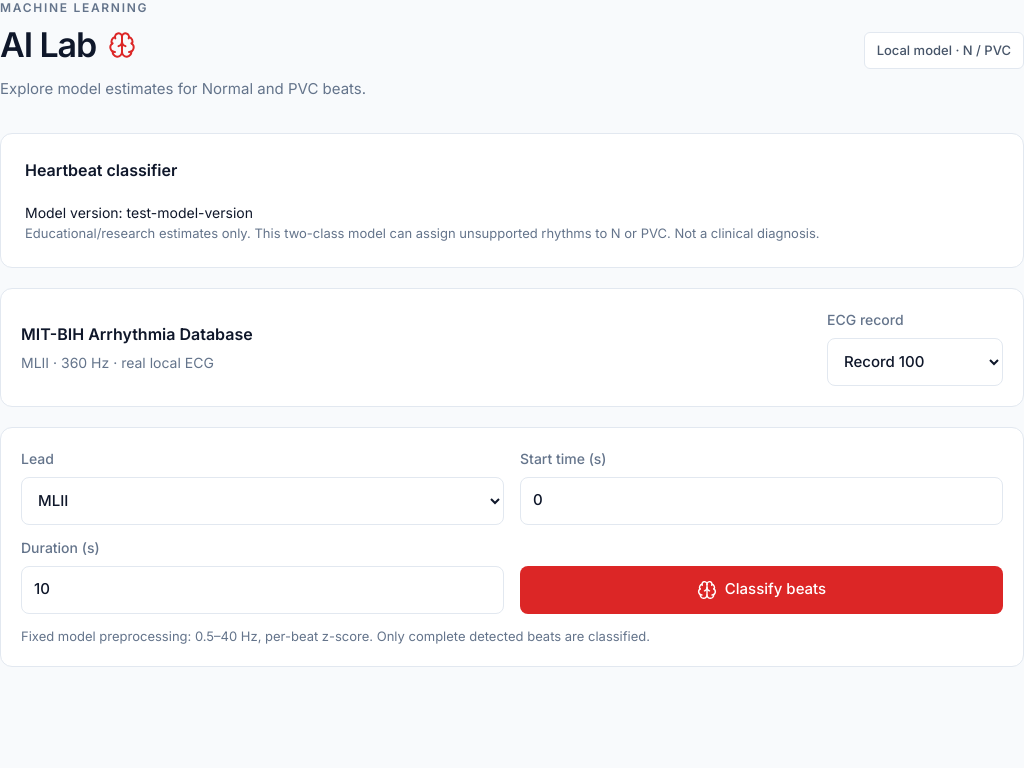
Test: prediction errors allow retry and never invent counts
Expected: the text "Model version: test-model-version" is shown, [25,204,253,220]
Click the button "Classify beats".
click(762, 590)  # box [520,566,1003,614]
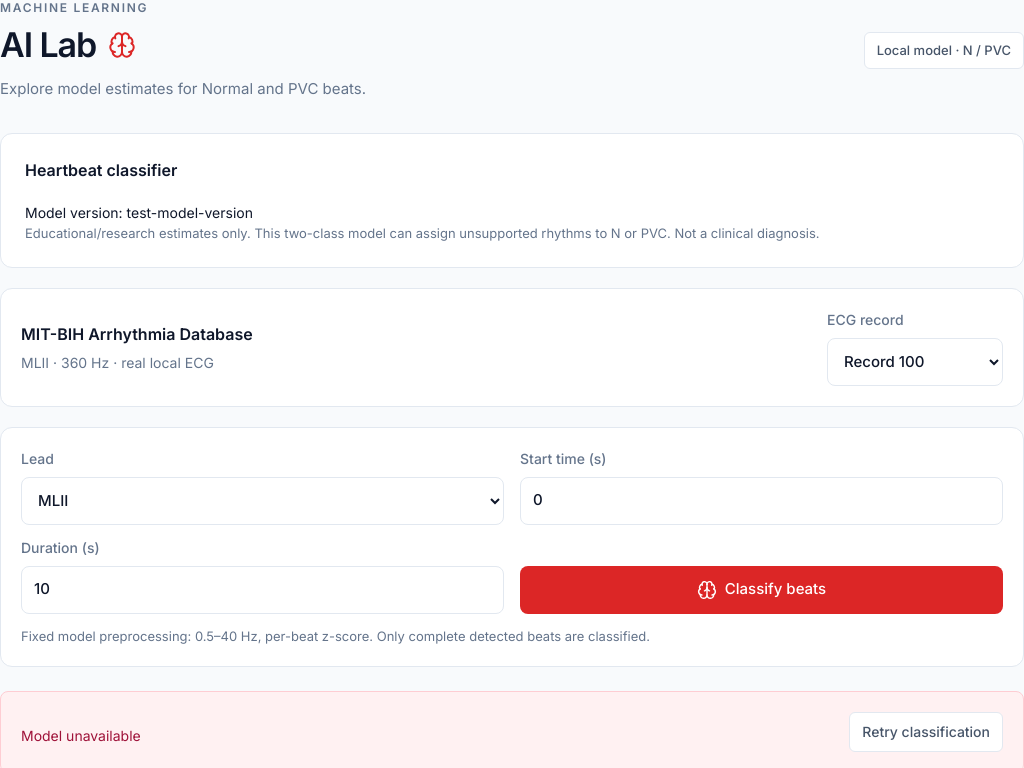
Expected: the message shows "Model unavailable", [21,726,141,744]
Click the button "Retry classification".
click(926, 732)  # box [849,712,1003,752]
(page scrolled)
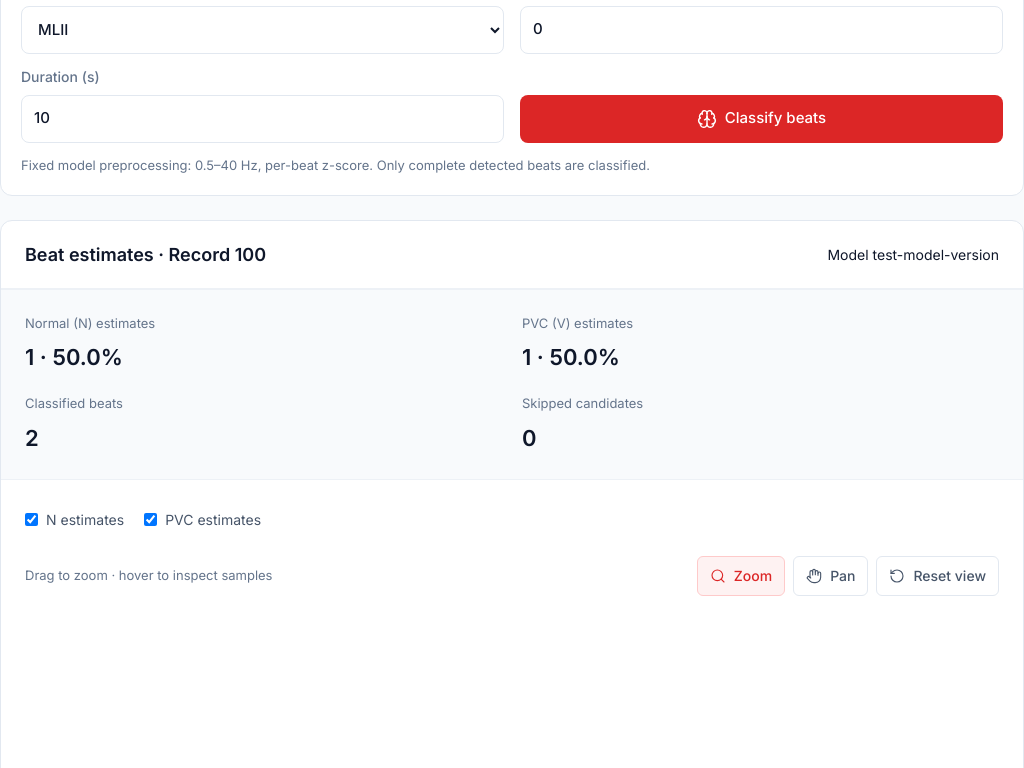
Expected: the element named "Classification counts" is shown, [1,288,1023,480]
